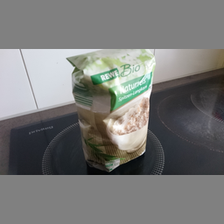rice: (66, 48, 157, 171)
